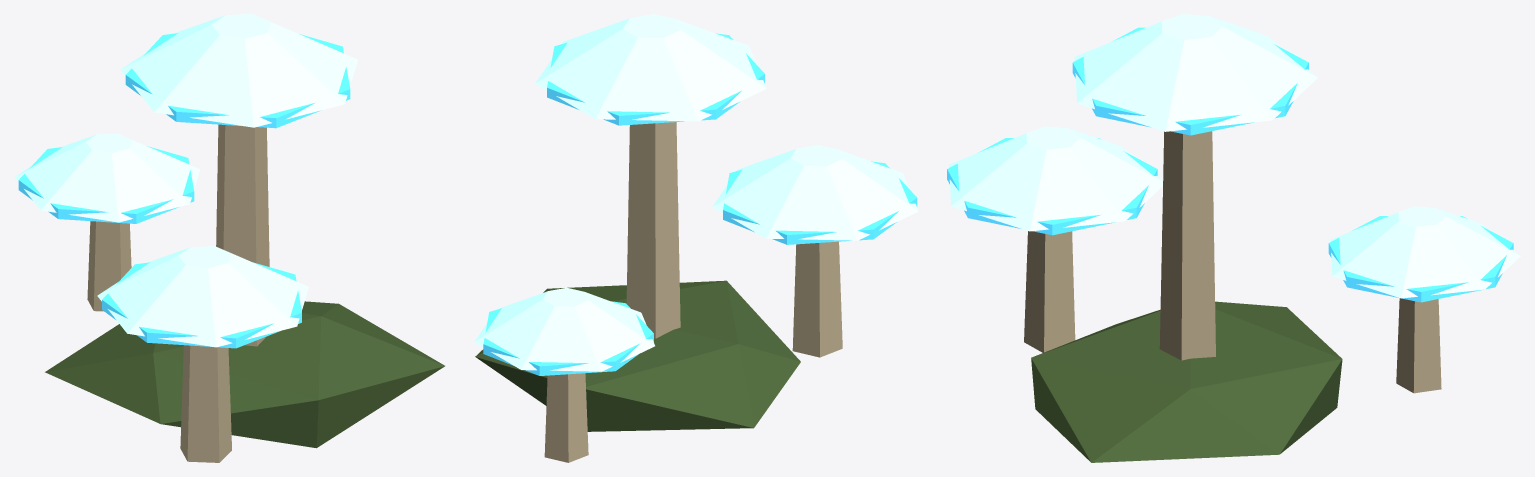
Rendered from glowcap_cluster_1.glb.
3 renders of one model, left to right at view 1: azimuth 30°, elevation 25°; view 2: azimuth 150°, elevation 25°; view 3: azimuth 270°, elevation 25°, orthographic. The views are drawn at different scales.
Parts seen in each view (by area): view 1: glowcap_cluster_1; view 2: glowcap_cluster_1; view 3: glowcap_cluster_1.
Part boxes in pixels (x1,y1,x2,y2): glowcap_cluster_1: (14, 14, 444, 462); glowcap_cluster_1: (474, 14, 918, 462); glowcap_cluster_1: (947, 14, 1520, 462).
Bounding box in the file's own units: 0.3631 × 0.3703 × 0.4948.
